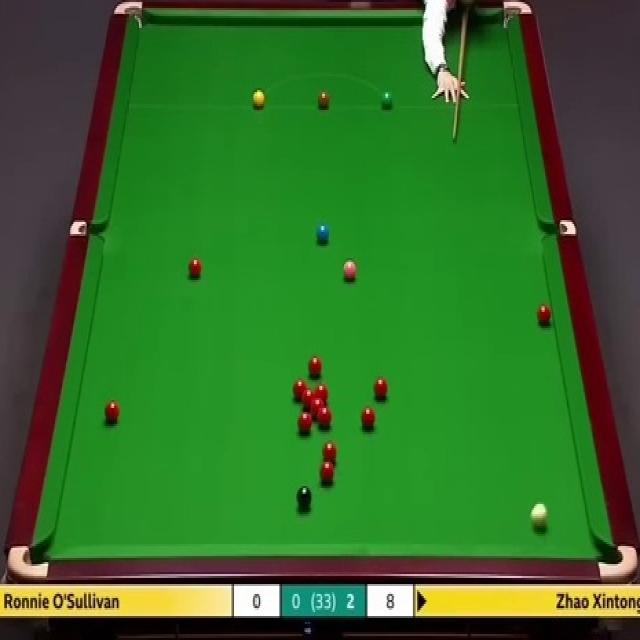pocket: (7, 540, 50, 583), (594, 540, 638, 582), (502, 0, 531, 34), (110, 0, 142, 29), (68, 220, 105, 235), (542, 222, 575, 236)
